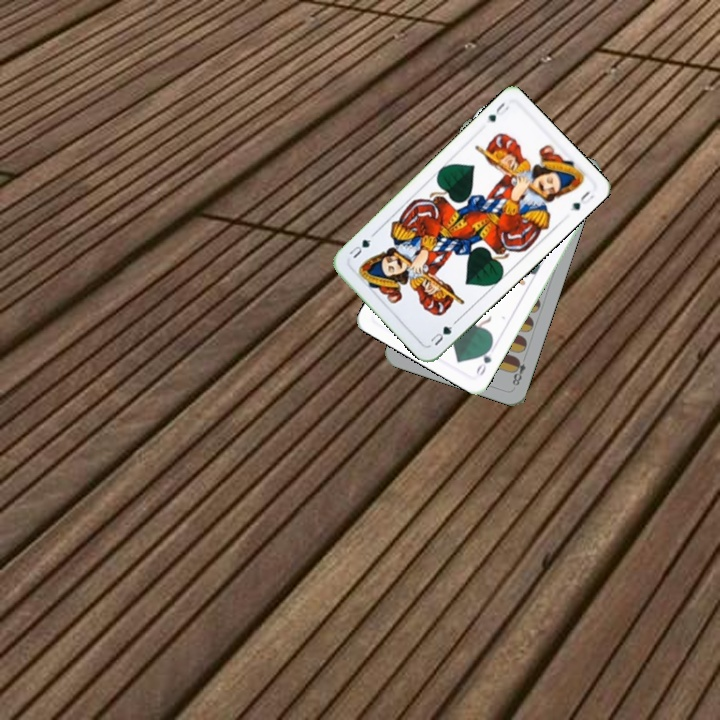E8: (508, 351, 529, 388)
GO: (472, 340, 495, 379)
GU: (426, 317, 459, 348), (484, 98, 511, 125)
